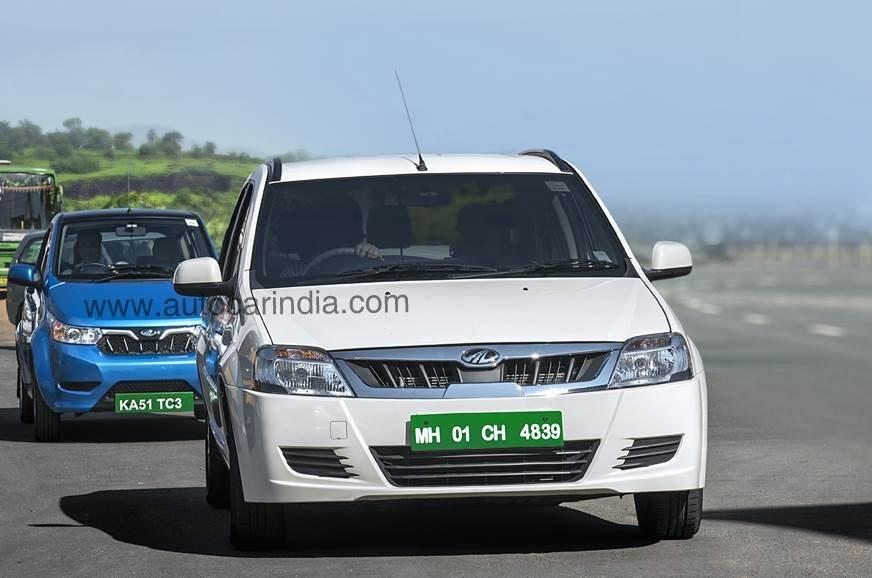Liscence Plate: (409, 418, 577, 452), (115, 392, 200, 418)
